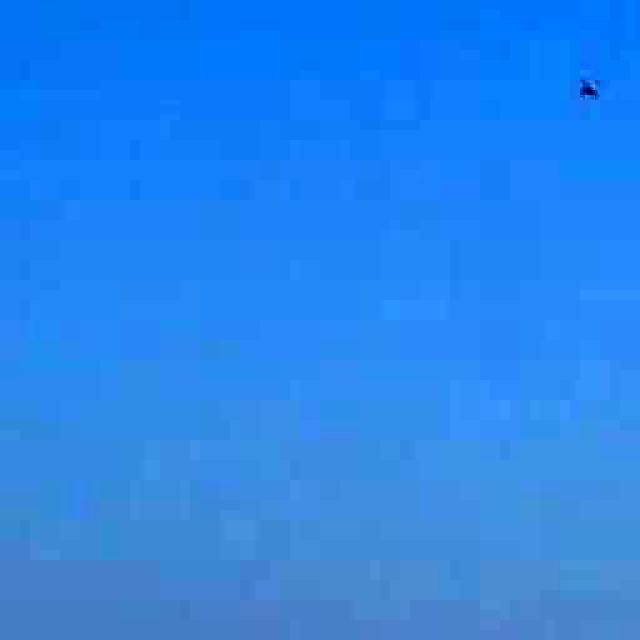bird: (554, 58, 629, 118)
